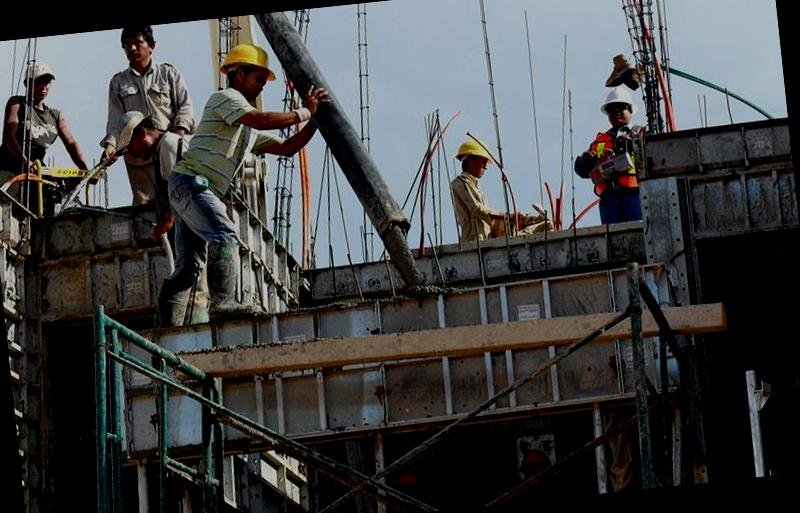helmet: (214, 36, 282, 92)
person: (149, 30, 296, 315), (575, 80, 654, 229), (0, 53, 74, 194), (444, 138, 507, 247)
